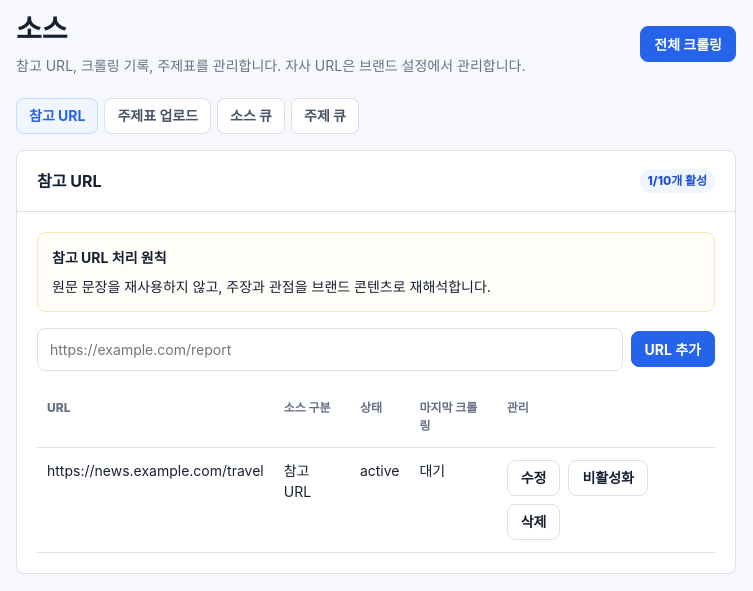
Test: SourcesPage › shows recent automatic crawl status
The image size is (753, 591).
Click the tab "소스 큐": (251, 116) [217,98,285,134]
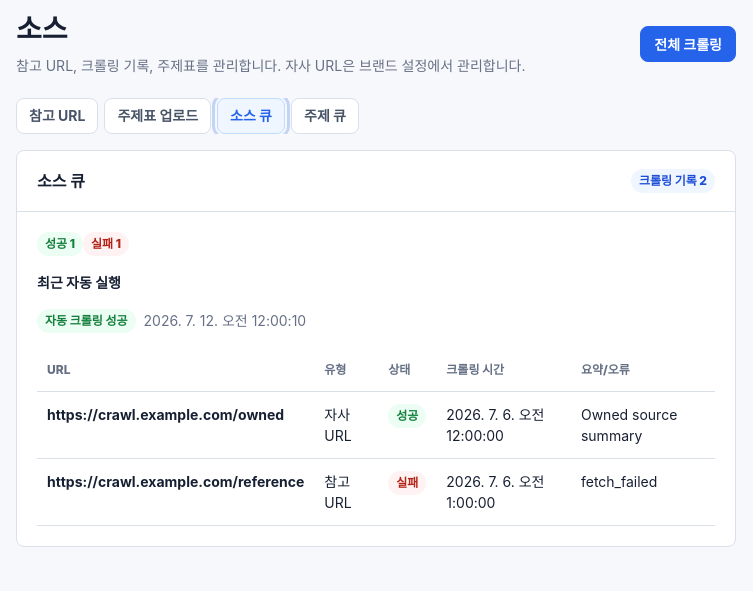
Check: the text "자동 크롤링 성공" is shown, box [37,309,136,333]
